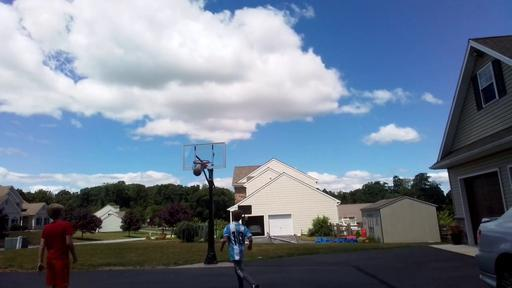ball: (192, 168, 202, 176)
human: (38, 204, 78, 288), (221, 210, 260, 288)
rim: (192, 159, 204, 174)
